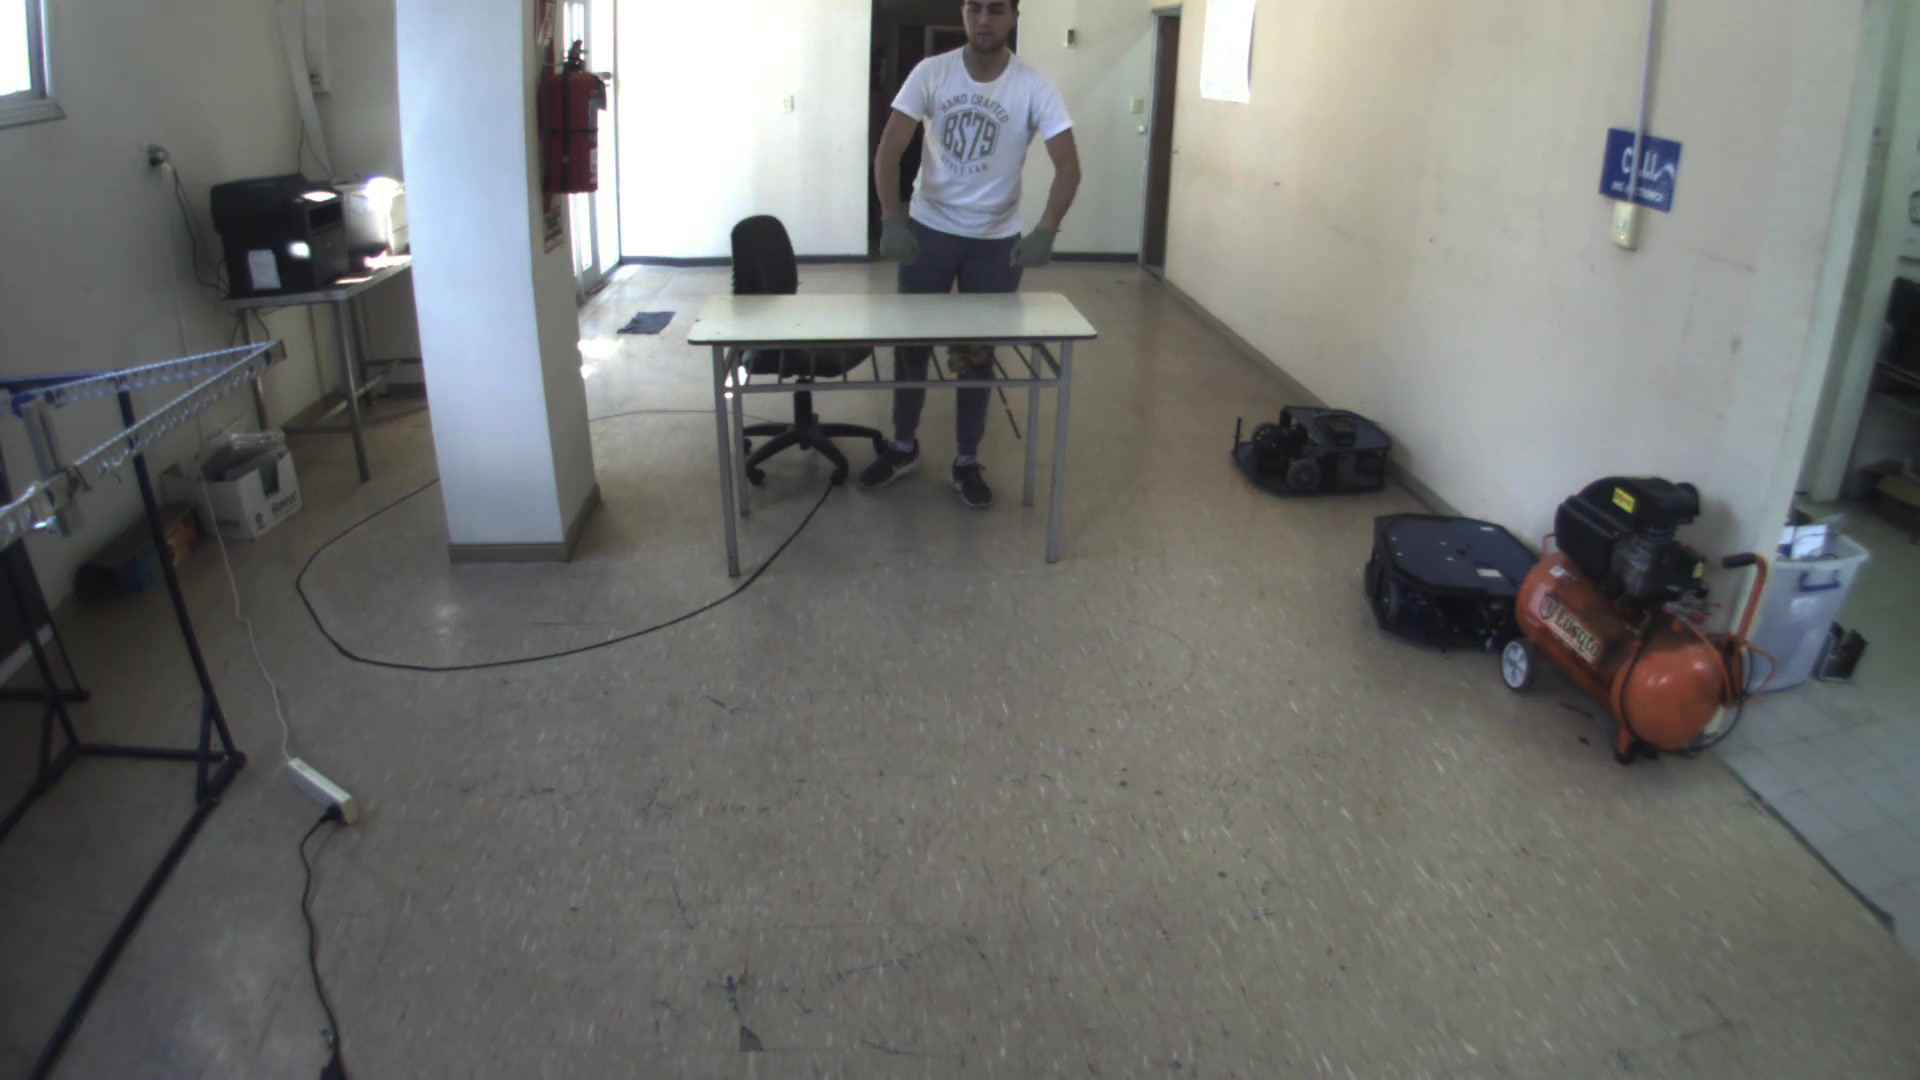hand: (868, 214, 934, 272), (1004, 218, 1062, 273)
